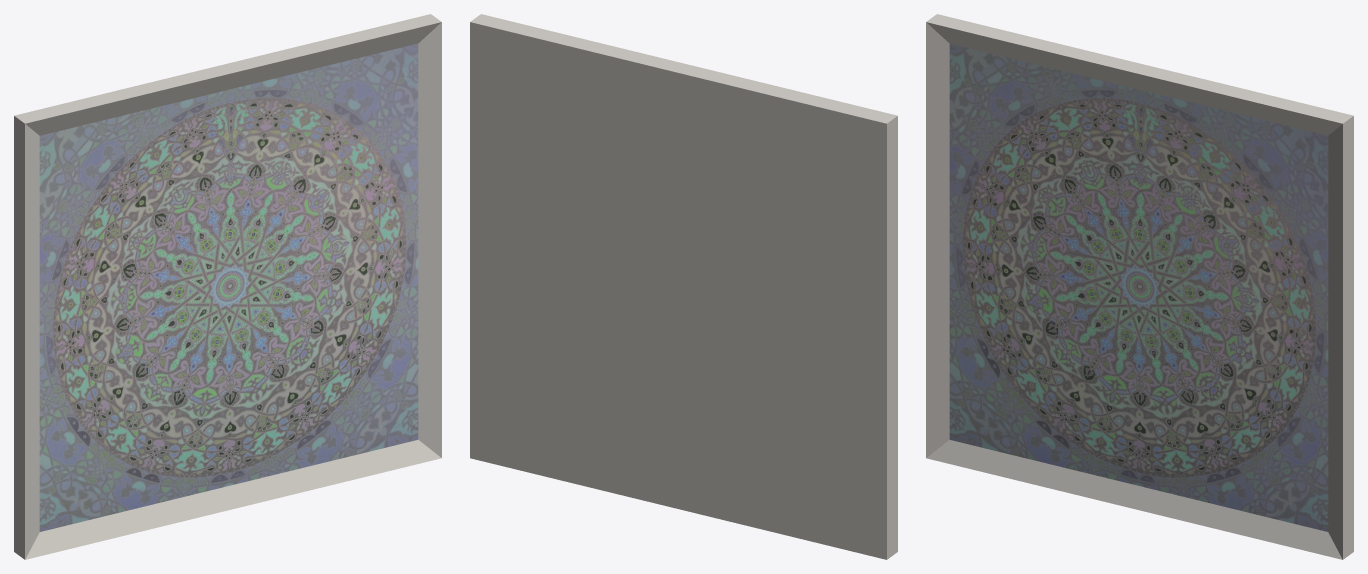
File: tridecagon-moon-star-tridecagon-moonstone-blue-a1-white-v2.glb
3 views of the same model, side by side, from view 1: azimuth 30°, elevation 25°; view 2: azimuth 150°, elevation 25°; view 3: azimuth 330°, elevation 25° (orthographic).
Visible parts, largest first — view 1: FramedPrint; view 2: FramedPrint; view 3: FramedPrint.
Part boxes in pixels (left/top/right/bottom): FramedPrint: left=14, top=14, right=441, bottom=559; FramedPrint: left=470, top=14, right=897, bottom=559; FramedPrint: left=926, top=14, right=1353, bottom=559.
Bounding box in the file's own units: 0.655 × 0.655 × 0.03.
Materials: 2 (1 with a texture image).
